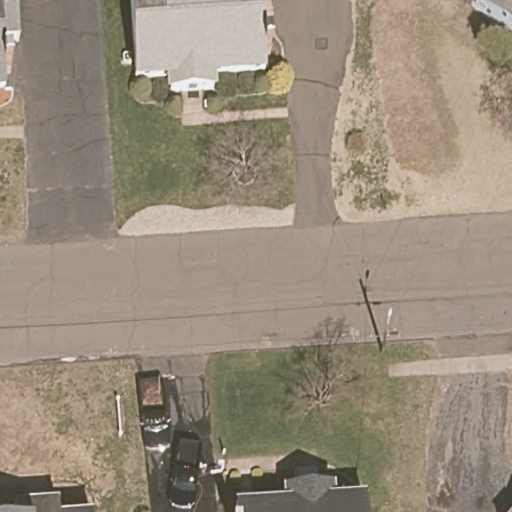DT: (369, 306, 399, 352)
